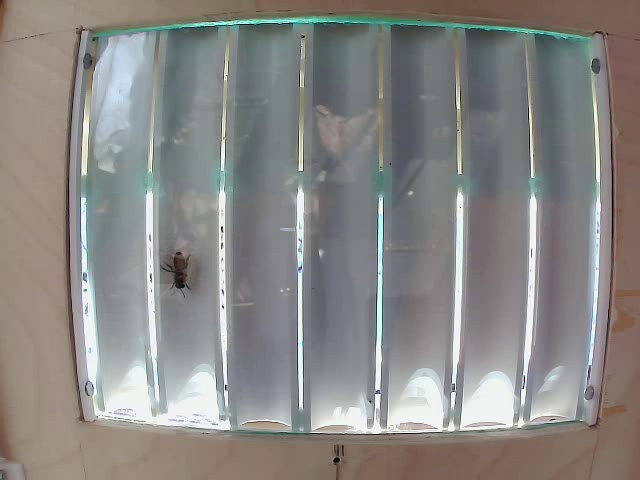bee: (154, 247, 207, 294)
